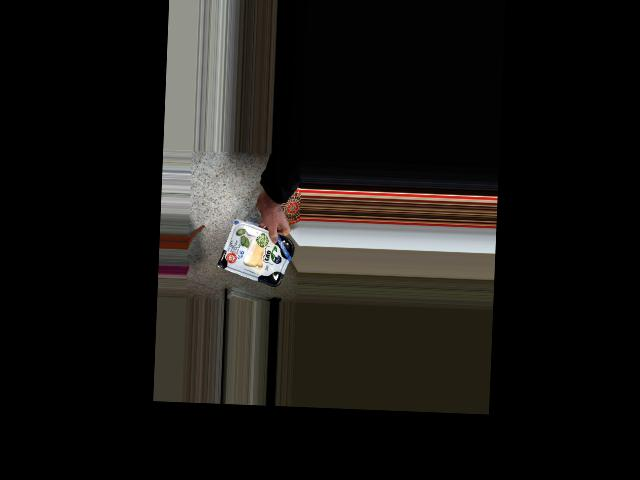cheese: (226, 228, 288, 278)
